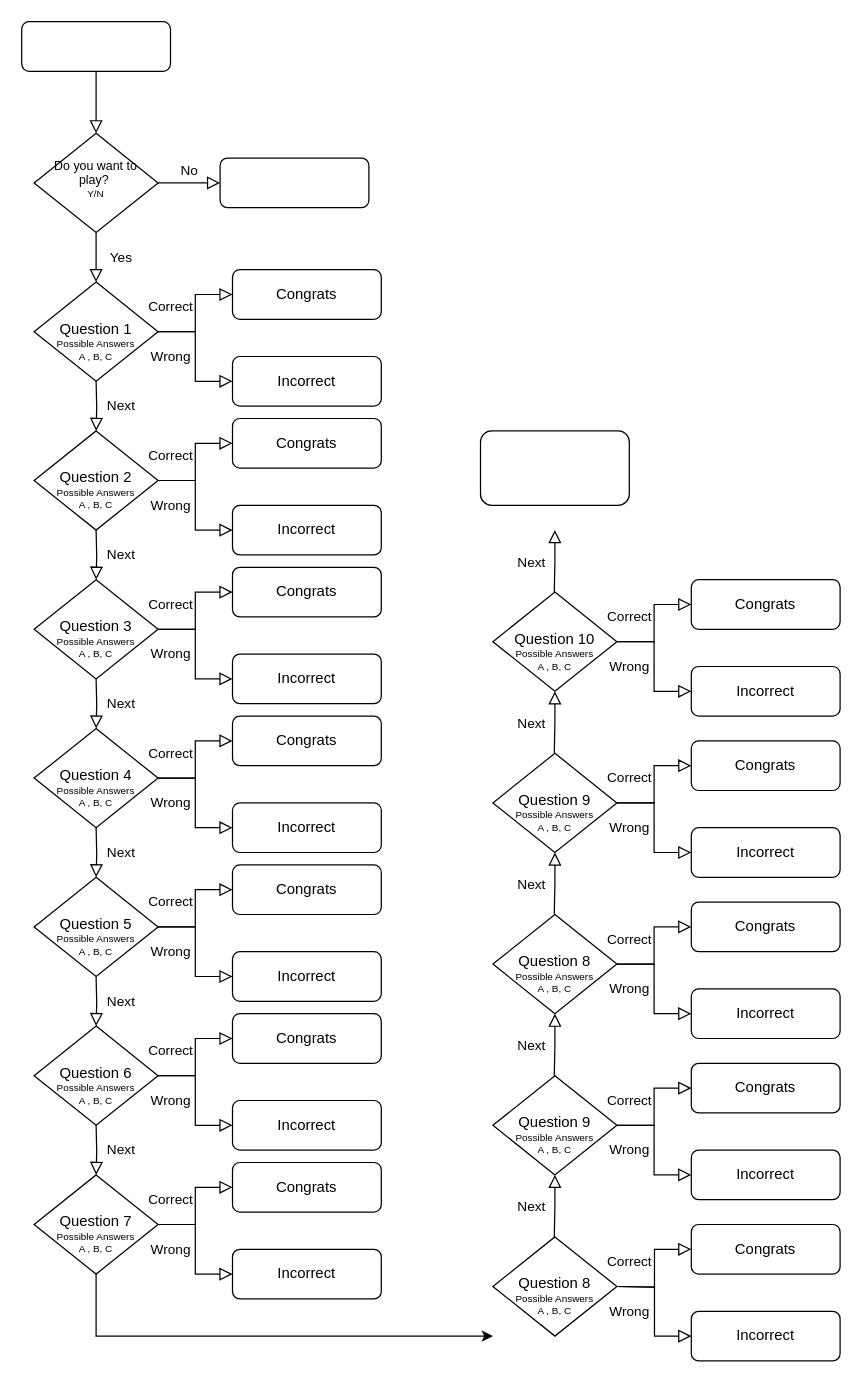
Some shapes in this 862 by 1383 pixel diagram are drawn without their labels. Here are the shapes that lost their labels. From the top down, the centre of each, then its label:
the point at 95,45: Irish Quiz
the point at 294,182: Exits
the point at 554,467: Do you want to play again? Yes/ No
